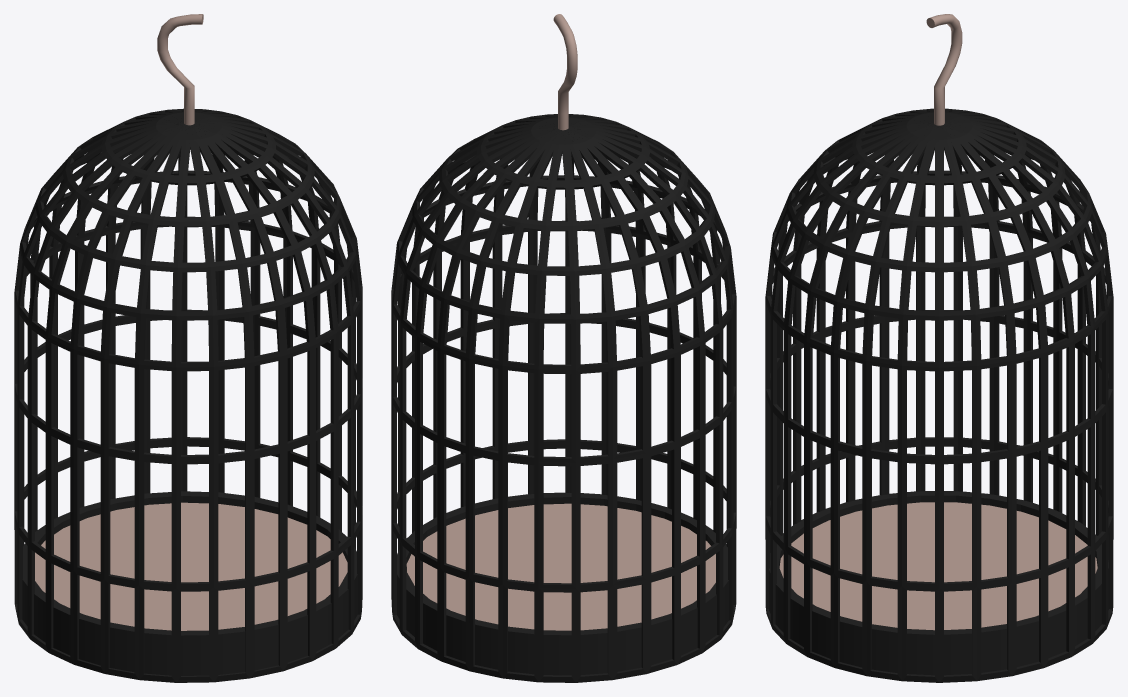
Rendered from ebdc6fd9-8c4b-4a98-8551-ba20ab42cb5b.glb.
The picture shows the model from 3 angles, left to right: view 1: azimuth 30°, elevation 25°; view 2: azimuth 150°, elevation 25°; view 3: azimuth 270°, elevation 25°; orthographic projection.
Parts seen in each view (by area): view 1: Cylinder005, Cylinder004, Cylinder006; view 2: Cylinder005, Cylinder004, Cylinder006; view 3: Cylinder005, Cylinder004, Cylinder006.
Part boxes in pixels (bbox=[...]): Cylinder005: bbox=[14, 108, 362, 682]; Cylinder004: bbox=[22, 491, 357, 675]; Cylinder006: bbox=[157, 14, 203, 125]; Cylinder005: bbox=[391, 114, 736, 682]; Cylinder004: bbox=[397, 492, 728, 675]; Cylinder006: bbox=[553, 14, 577, 130]; Cylinder005: bbox=[765, 108, 1113, 682]; Cylinder004: bbox=[768, 491, 1108, 675]; Cylinder006: bbox=[926, 14, 962, 125].
Size of the model in its own units: 296816 by 562343 by 297232.
